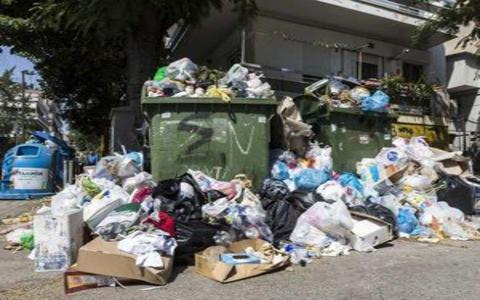overflowing garbage: (139, 52, 275, 282), (286, 88, 407, 273)
